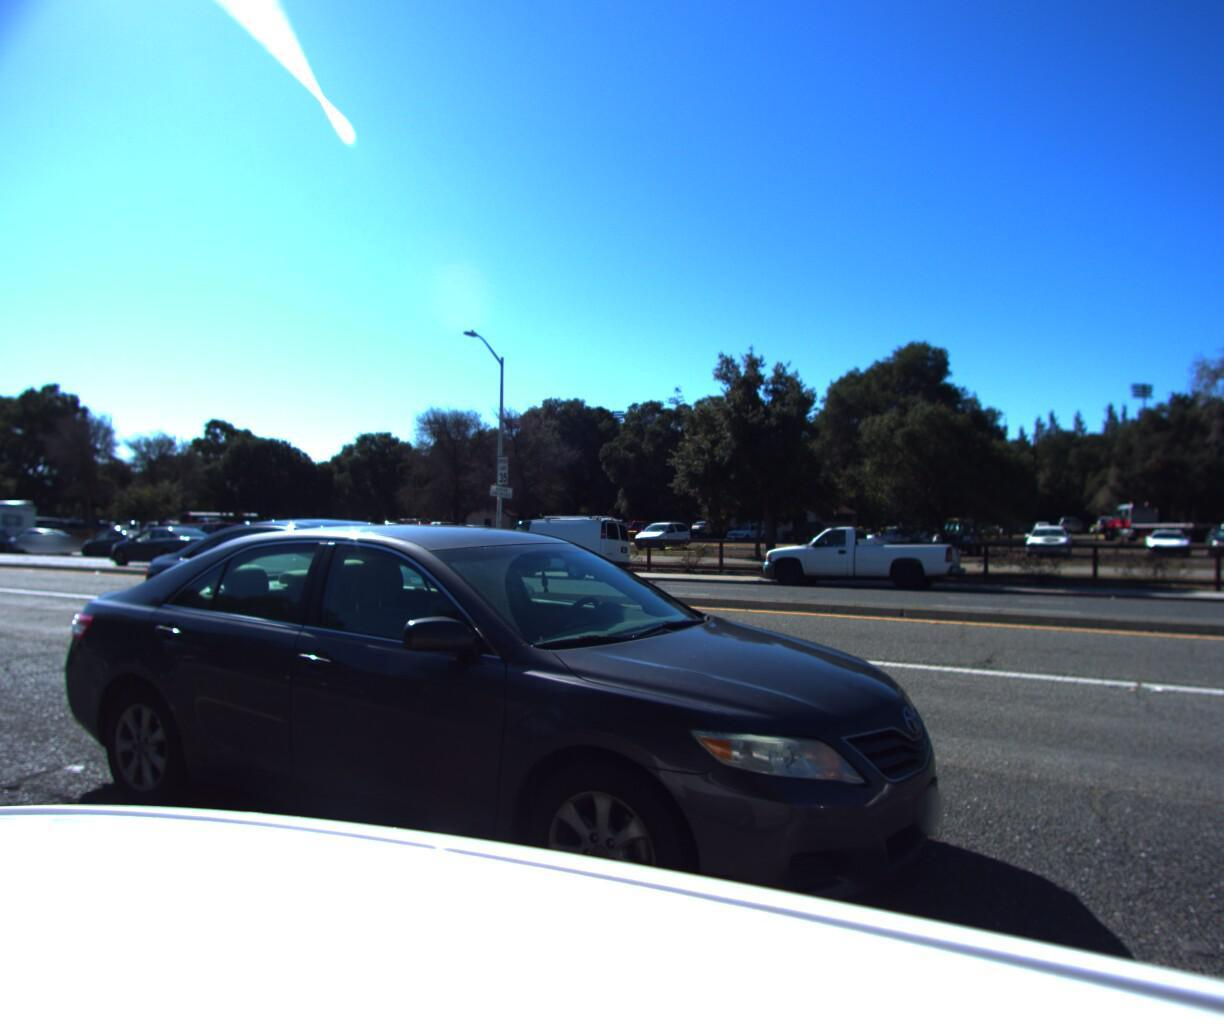car: (19, 497, 978, 1024), (115, 511, 555, 685), (751, 522, 968, 598), (157, 522, 280, 568), (101, 528, 229, 573), (259, 526, 372, 571), (350, 534, 472, 576), (0, 531, 83, 560)
other_vehicle: (477, 515, 640, 581), (0, 500, 39, 560)
